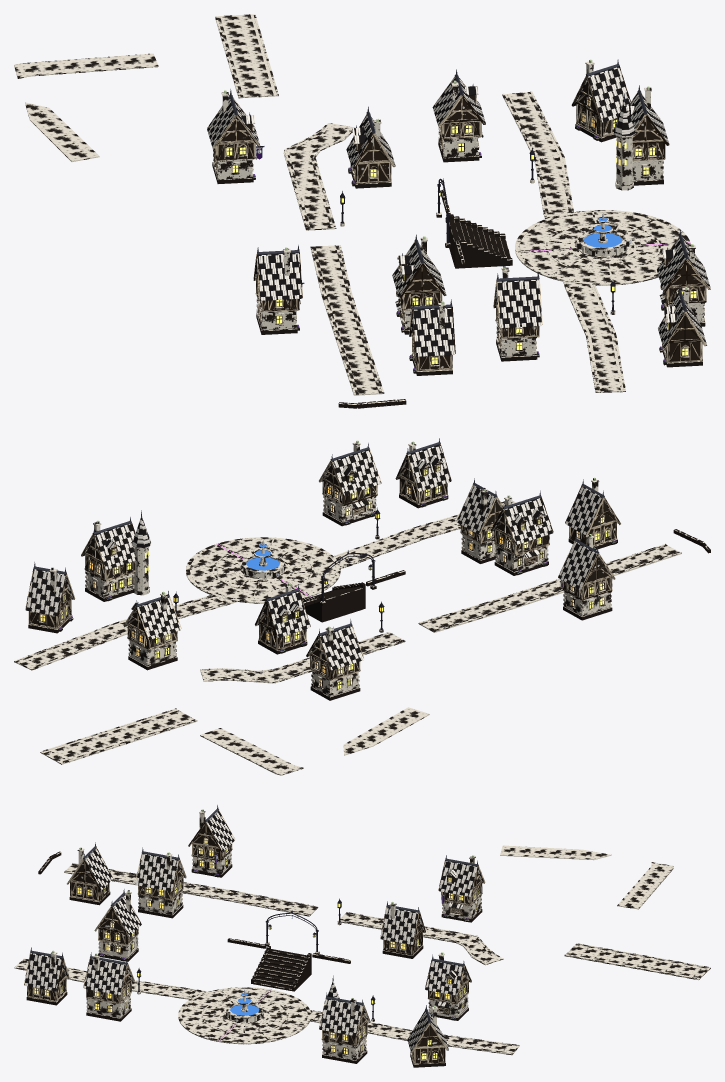
File: ILHA3_05_VILLAGE_f6fdb3.fbx
3 views of the same model, one above another, from view 1: azimuth 30°, elevation 25°; view 2: azimuth 150°, elevation 25°; view 3: azimuth 270°, elevation 25° (orthographic). The views are drawn at different scales.
Visible parts, largest first — view 1: SG_Vil_Streets_P2__Stone_SG_Floor, SG_Vil_Plaza__Stone_Paving_SG, SG_Vil_Houses_P2W__Roof_SG_Slate, SG_Vil_Streets_P1__Stone_SG_Floor, SG_Vil_Houses_P1W__Roof_SG_Slate, SG_Vil_Streets_P3__Stone_SGVilCobble, SG_Vil_Houses_P1E__Roof_SG_Slate, SG_Vil_Houses_P1E__Wood_SG_Dark, SG_Vil_Streets_P2__Stone_SGVilCobble, SG_Vil_Houses_P1E__Stone_SG_Block_B, SG_Vil_Houses_P1W__Wood_SG_Dark, SG_Vil_Plaza__Stone_SG_Trim (+19 smaller); view 2: SG_Vil_Streets_P2__Stone_SG_Floor, SG_Vil_Plaza__Stone_Paving_SG, SG_Vil_Houses_P1E__Roof_SG_Slate, SG_Vil_Houses_P1W__Roof_SG_Slate, SG_Vil_Houses_P2W__Roof_SG_Slate, SG_Vil_Houses_P2W__Wood_SG_Dark, SG_Vil_Streets_P3__Stone_SGVilCobble, SG_Vil_Houses_P1E__Wood_SG_Dark, SG_Vil_Houses_P1W__Wood_SG_Dark, SG_Vil_Streets_P1__Stone_SG_Floor, SG_Vil_Houses_P1E__Stone_SG_Block_B, SG_Vil_Houses_P2E__Roof_SG_Slate (+21 smaller); view 3: SG_Vil_Streets_P2__Stone_SG_Floor, SG_Vil_Plaza__Stone_Paving_SG, SG_Vil_Houses_P1E__Roof_SG_Slate, SG_Vil_Houses_P1W__Roof_SG_Slate, SG_Vil_Houses_P2W__Roof_SG_Slate, SG_Vil_Houses_P2W__Wood_SG_Dark, SG_Vil_Streets_P3__Stone_SGVilCobble, SG_Vil_Houses_P2E__Roof_SG_Slate, SG_Vil_Houses_P1E__Wood_SG_Dark, SG_Vil_Houses_P1W__Wood_SG_Dark, SG_Vil_Streets_P2__Stone_SGVilCobble, SG_Vil_Plaza__Stone_SG_Trim (+21 smaller).
Boxes of the visible parts, x1,y1,x2,y2 form: SG_Vil_Streets_P2__Stone_SG_Floor: (220, 14, 378, 394); SG_Vil_Plaza__Stone_Paving_SG: (515, 212, 684, 285); SG_Vil_Houses_P2W__Roof_SG_Slate: (254, 242, 454, 356); SG_Vil_Streets_P1__Stone_SG_Floor: (507, 92, 620, 392); SG_Vil_Houses_P1W__Roof_SG_Slate: (494, 238, 710, 348); SG_Vil_Streets_P3__Stone_SGVilCobble: (14, 53, 158, 161); SG_Vil_Houses_P1E__Roof_SG_Slate: (432, 67, 669, 145); SG_Vil_Houses_P1E__Wood_SG_Dark: (433, 66, 668, 175); SG_Vil_Streets_P2__Stone_SGVilCobble: (215, 14, 383, 395); SG_Vil_Houses_P1E__Stone_SG_Block_B: (438, 64, 663, 190); SG_Vil_Houses_P1W__Wood_SG_Dark: (493, 237, 710, 362); SG_Vil_Plaza__Stone_SG_Trim: (515, 210, 690, 285); SG_Vil_Streets_P2__Stone_SG_Floor: (43, 546, 678, 762); SG_Vil_Plaza__Stone_Paving_SG: (186, 539, 340, 603); SG_Vil_Houses_P1E__Roof_SG_Slate: (25, 516, 181, 640); SG_Vil_Houses_P1W__Roof_SG_Slate: (321, 445, 502, 534); SG_Vil_Houses_P2W__Roof_SG_Slate: (493, 487, 620, 590); SG_Vil_Houses_P2W__Wood_SG_Dark: (490, 485, 620, 609); SG_Vil_Streets_P3__Stone_SGVilCobble: (200, 707, 429, 775); SG_Vil_Houses_P1E__Wood_SG_Dark: (25, 523, 181, 659); SG_Vil_Houses_P1W__Wood_SG_Dark: (319, 444, 503, 553); SG_Vil_Streets_P1__Stone_SG_Floor: (17, 501, 515, 668); SG_Vil_Houses_P1E__Stone_SG_Block_B: (28, 525, 177, 670); SG_Vil_Houses_P2E__Roof_SG_Slate: (257, 592, 363, 670); SG_Vil_Streets_P2__Stone_SG_Floor: (66, 864, 709, 977); SG_Vil_Plaza__Stone_Paving_SG: (178, 988, 309, 1044); SG_Vil_Houses_P1E__Roof_SG_Slate: (319, 961, 470, 1052); SG_Vil_Houses_P1W__Roof_SG_Slate: (24, 895, 141, 995); SG_Vil_Houses_P2W__Roof_SG_Slate: (67, 811, 235, 891); SG_Vil_Houses_P2W__Wood_SG_Dark: (67, 810, 234, 909); SG_Vil_Streets_P3__Stone_SGVilCobble: (500, 845, 673, 909); SG_Vil_Houses_P2E__Roof_SG_Slate: (380, 861, 483, 944); SG_Vil_Houses_P1E__Wood_SG_Dark: (319, 960, 471, 1064); SG_Vil_Houses_P1W__Wood_SG_Dark: (24, 894, 141, 1012); SG_Vil_Streets_P2__Stone_SGVilCobble: (64, 864, 710, 980); SG_Vil_Plaza__Stone_SG_Trim: (178, 987, 311, 1043).
Bounding box in the file's own units: 180 × 34.4 × 272.
16 materials, 5 textured.
